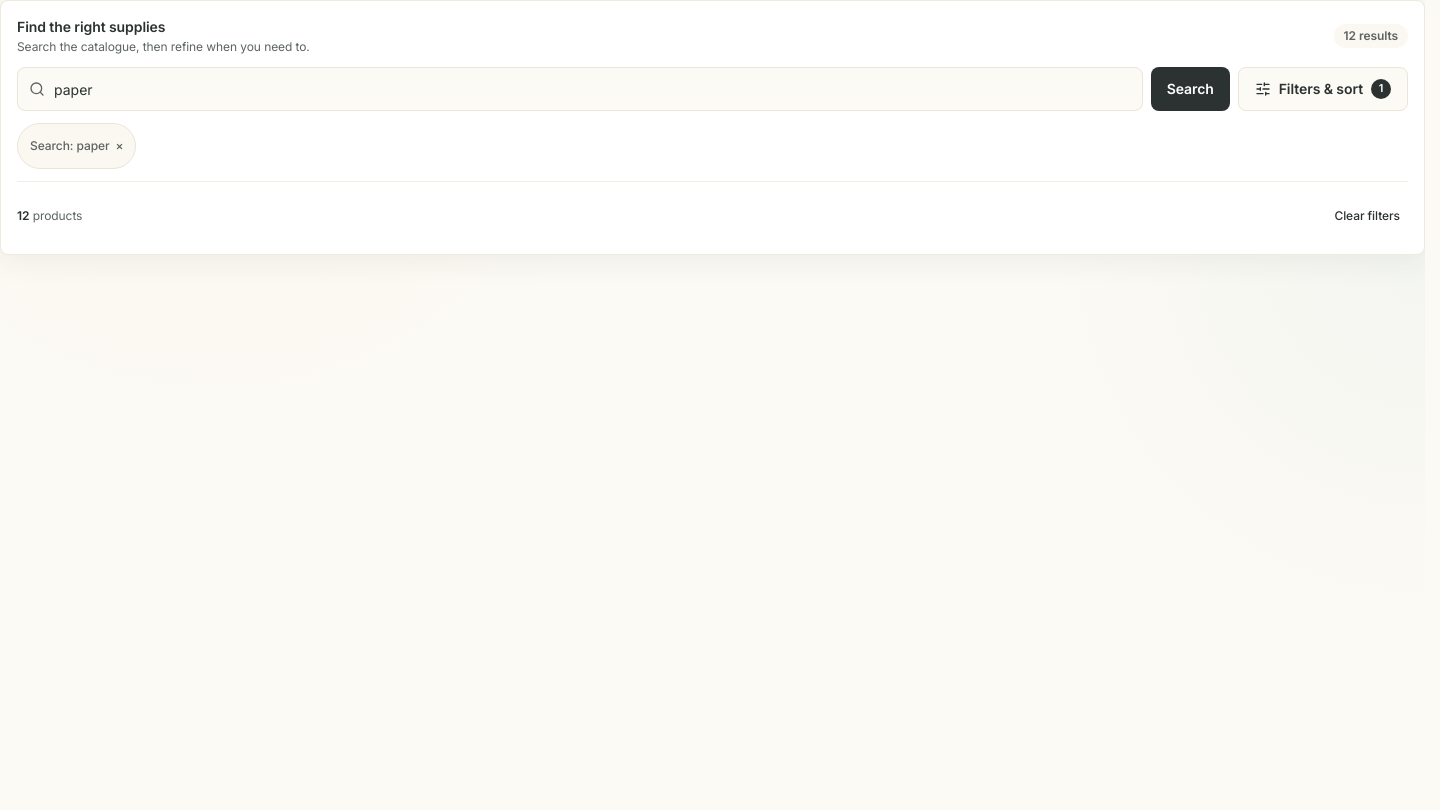
Test: CatalogueToolbar › keeps search and filter controls compact, then opens a full-screen filter sheet
Expected: the search field named "Search catalogue" is shown, x1=17 y1=67 x2=1143 y2=111
Click the button with aria-label "filters and sort": (1323,89) x1=1238 y1=67 x2=1408 y2=111
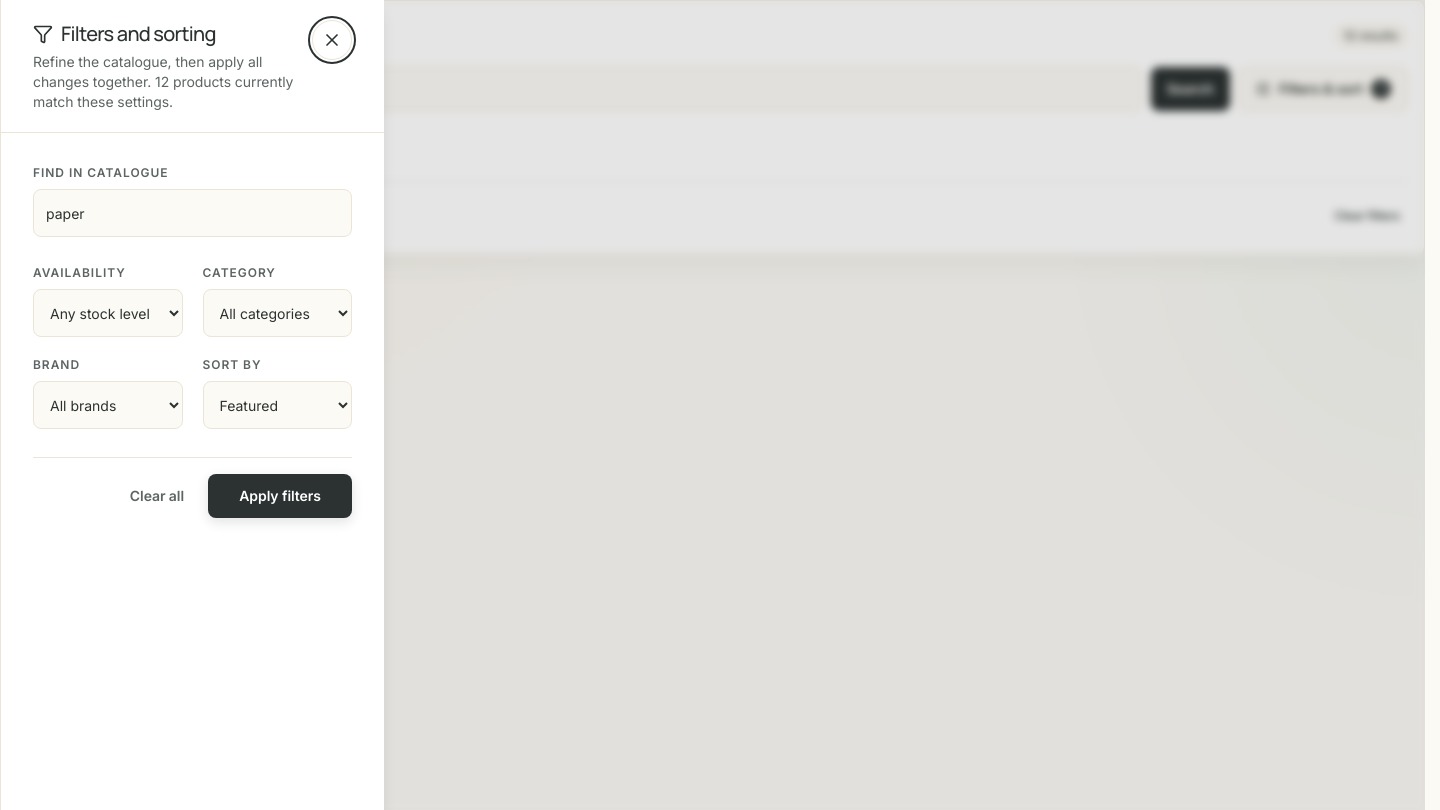
Now the dialog "Filters and sorting" shows "12 products currently match these settings.", box x1=0 y1=0 x2=384 y2=809
Now the dropdown named "Filter by category" is shown, box x1=202 y1=289 x2=352 y2=337
Now the dropdown named "Sort catalogue" is shown, box x1=202 y1=381 x2=352 y2=429
